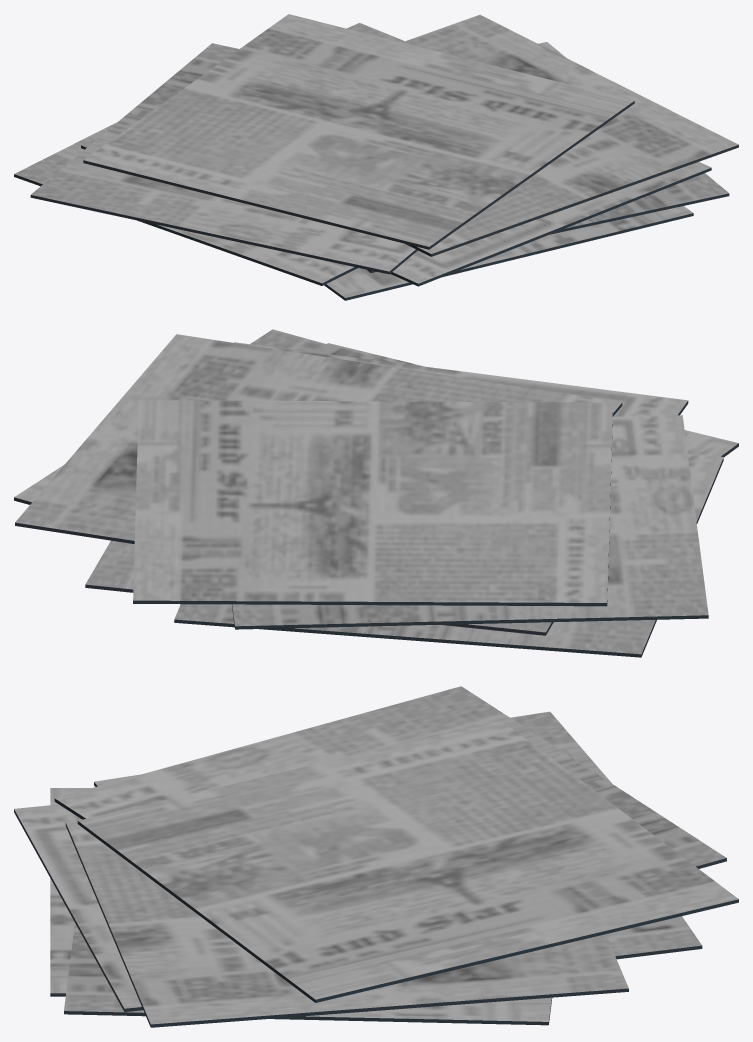
File: SM_Newspaper.fbx
The picture shows the model from 3 angles, top to bottom: view 1: azimuth 30°, elevation 25°; view 2: azimuth 150°, elevation 25°; view 3: azimuth 270°, elevation 25°; orthographic projection. The views are drawn at different scales.
Parts seen in each view (by area): view 1: SM_Newspaper; view 2: SM_Newspaper; view 3: SM_Newspaper.
Part boxes in pixels (box(x1,y1,x2,y2)): SM_Newspaper: box(14, 14, 738, 300); SM_Newspaper: box(14, 329, 738, 657); SM_Newspaper: box(14, 686, 738, 1027).
Size of the model in its own units: 53.38 by 1.96 by 47.88.
Materials: 1 (1 with a texture image).
